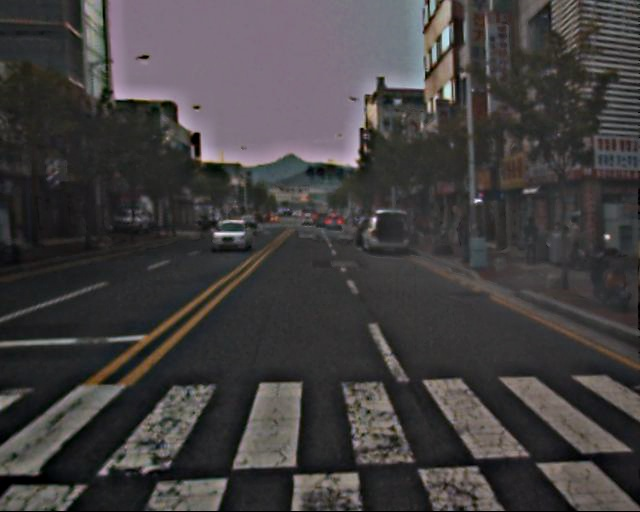person: (561, 215, 582, 267), (522, 218, 540, 263), (457, 216, 472, 252)
